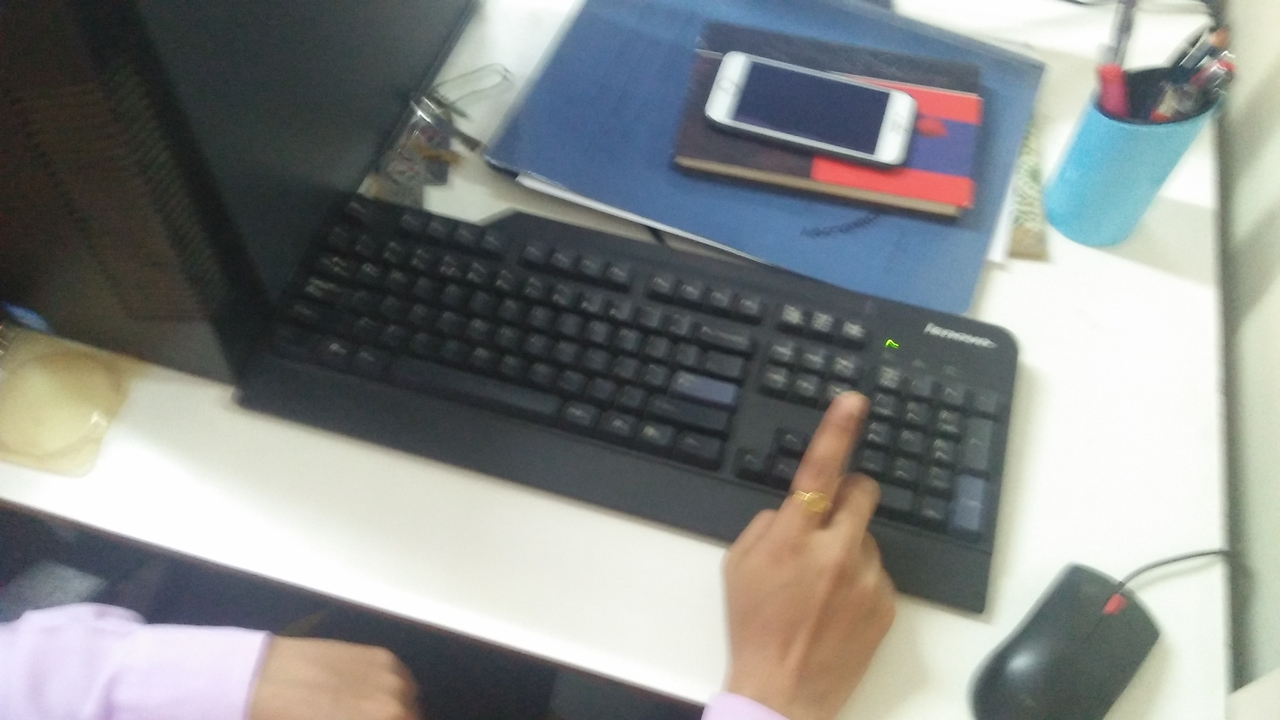fingertip: (816, 384, 872, 444)
